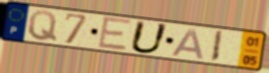7: (63, 12, 89, 46)
A: (170, 27, 206, 61)
E: (97, 15, 133, 53)
I: (209, 29, 225, 64)
Q: (27, 10, 59, 44)
U: (128, 19, 171, 55)
